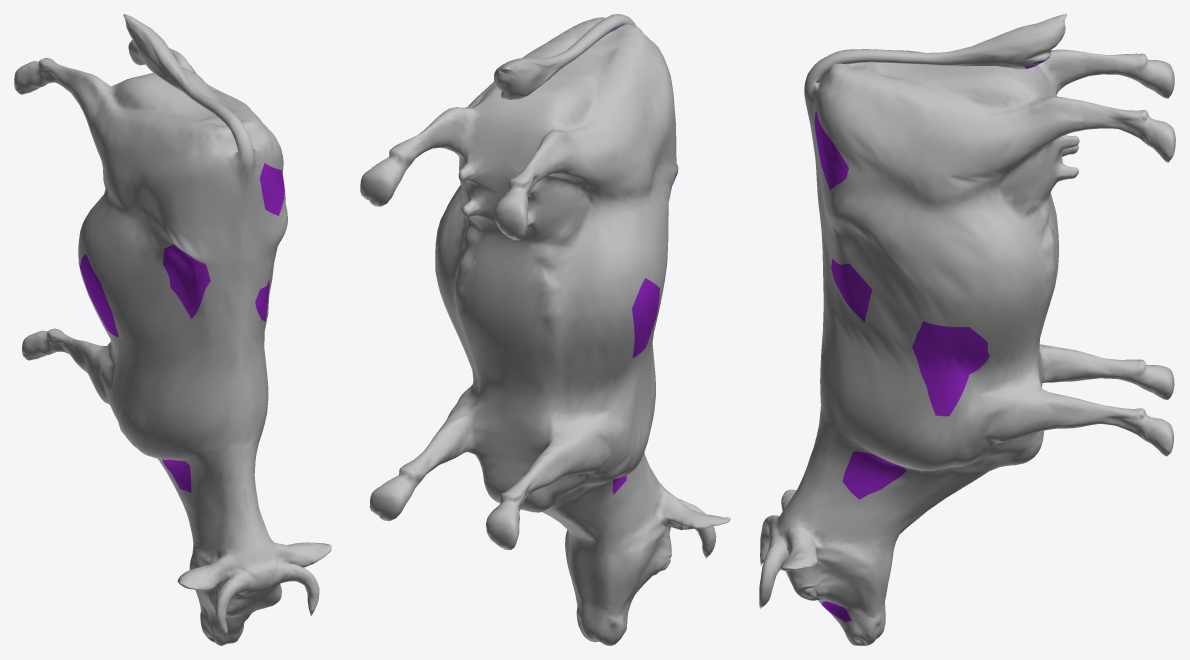
File: cow.obj
3 views of the same model, side by side, from view 1: azimuth 30°, elevation 25°; view 2: azimuth 150°, elevation 25°; view 3: azimuth 270°, elevation 25° (orthographic). The views are drawn at different scales.
Parts seen in each view (by area): view 1: default; view 2: default; view 3: default.
Boxes of the visible parts, bbox=[...] form: default: bbox=[14, 14, 331, 645]; default: bbox=[360, 14, 730, 645]; default: bbox=[759, 14, 1175, 645].
Bounding box in the file's own units: 2.06 × 6.38 × 3.86.
